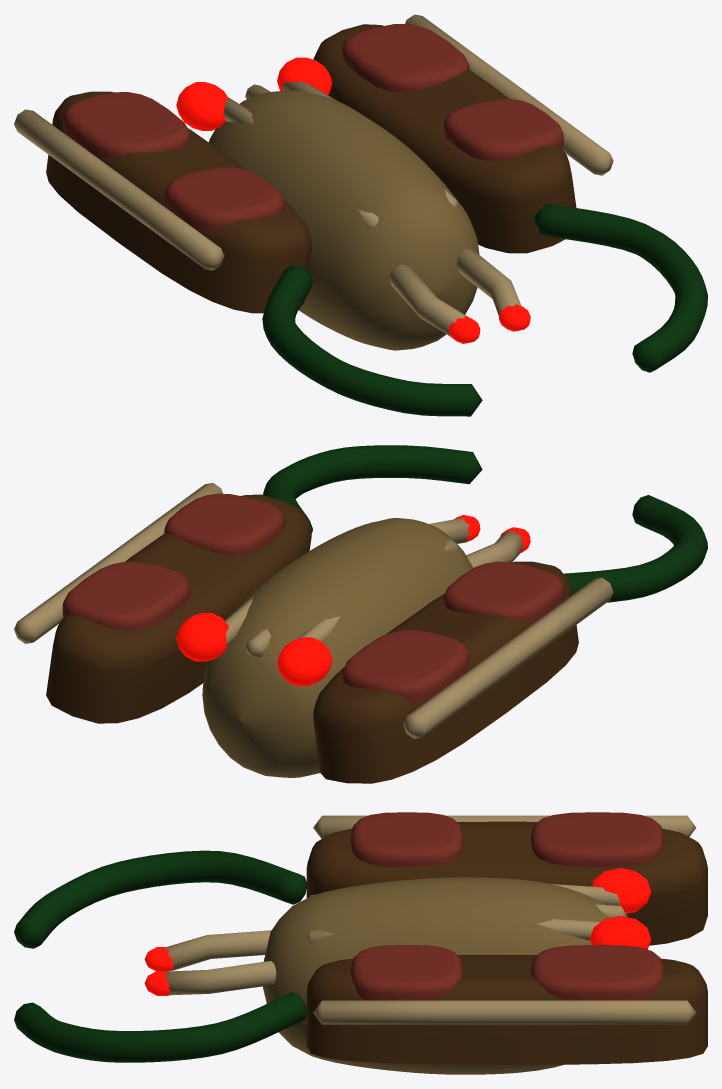
The model's file is bronze_beetle.glb.
The picture shows the model from 3 angles, top to bottom: view 1: azimuth 30°, elevation 25°; view 2: azimuth 150°, elevation 25°; view 3: azimuth 270°, elevation 25°; orthographic projection. The views are drawn at different scales.
Visible parts, largest first — view 1: body, case1, case-1, leg-1, leg1, case_edge-1, panel112.0, panel-112.0, panel-14.2, panel14.2, case_edge1, claw-1 (+6 smaller); view 2: body, case1, case-1, leg1, case_edge-1, panel-112.0, panel112.0, leg-1, panel14.2, panel-14.2, case_edge1, eye-1 (+5 smaller); view 3: body, case1, case-1, leg-1, leg1, case_edge1, panel112.0, panel-112.0, panel14.2, panel-14.2, claw1, claw-1 (+7 smaller).
Part boxes in pixels (x1=…): body: x1=208, y1=90, x2=479, y2=350; case1: x1=313, y1=24, x2=576, y2=253; case-1: x1=46, y1=91, x2=311, y2=313; leg-1: x1=262, y1=265, x2=482, y2=416; leg1: x1=533, y1=203, x2=707, y2=372; case_edge-1: x1=14, y1=109, x2=224, y2=270; panel112.0: x1=342, y1=24, x2=469, y2=92; panel-112.0: x1=62, y1=92, x2=190, y2=158; panel-14.2: x1=164, y1=167, x2=284, y2=233; panel14.2: x1=443, y1=99, x2=563, y2=160; case_edge1: x1=405, y1=14, x2=613, y2=175; claw-1: x1=389, y1=264, x2=468, y2=336; body: x1=202, y1=518, x2=473, y2=777; case1: x1=46, y1=494, x2=311, y2=723; case-1: x1=313, y1=561, x2=578, y2=783; leg1: x1=263, y1=445, x2=482, y2=533; case_edge-1: x1=403, y1=577, x2=613, y2=738; panel-112.0: x1=342, y1=630, x2=469, y2=703; panel112.0: x1=62, y1=562, x2=190, y2=630; leg-1: x1=564, y1=495, x2=707, y2=602; panel14.2: x1=164, y1=493, x2=284, y2=555; panel-14.2: x1=443, y1=561, x2=563, y2=623; case_edge1: x1=14, y1=483, x2=222, y2=643; eye-1: x1=277, y1=637, x2=332, y2=686; body: x1=262, y1=877, x2=610, y2=1074; case1: x1=306, y1=955, x2=707, y2=1064; case-1: x1=306, y1=821, x2=707, y2=945; leg-1: x1=14, y1=850, x2=306, y2=948; leg1: x1=14, y1=992, x2=306, y2=1062; case_edge1: x1=313, y1=1000, x2=696, y2=1024; panel112.0: x1=530, y1=945, x2=663, y2=1000; panel-112.0: x1=530, y1=812, x2=663, y2=867; panel14.2: x1=350, y1=945, x2=463, y2=1000; panel-14.2: x1=350, y1=812, x2=463, y2=867; claw1: x1=165, y1=961, x2=276, y2=995; claw-1: x1=165, y1=930, x2=271, y2=970.
Bounding box in the file's own units: 18 × 7.85 × 26.97.
